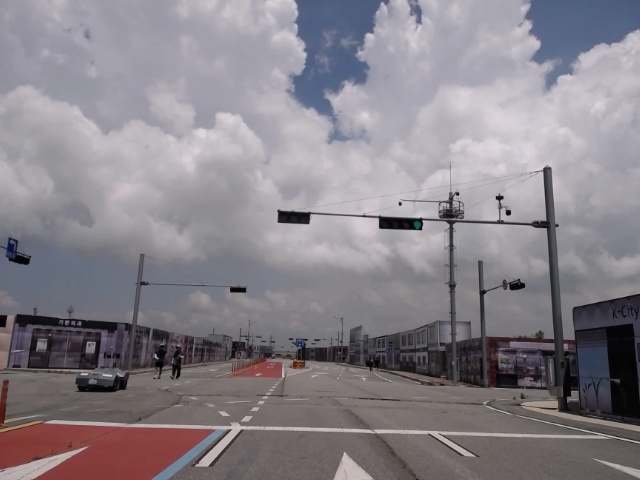straight_green_4: (378, 217, 424, 229)
